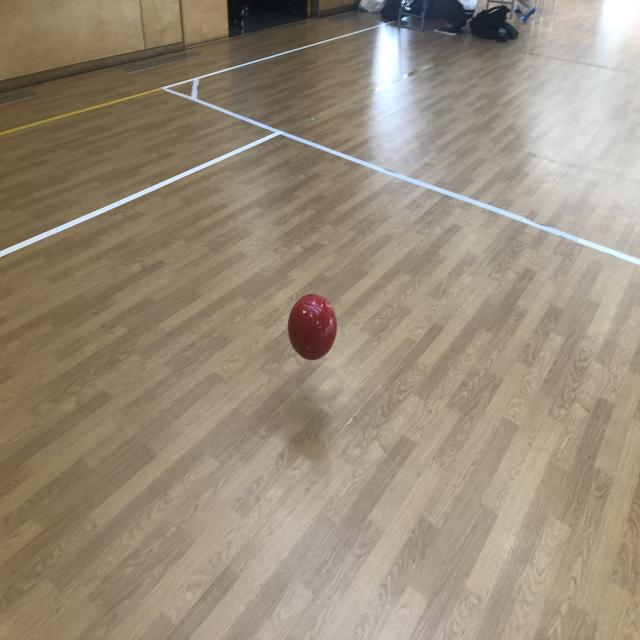red_ball: (290, 292, 334, 362)
